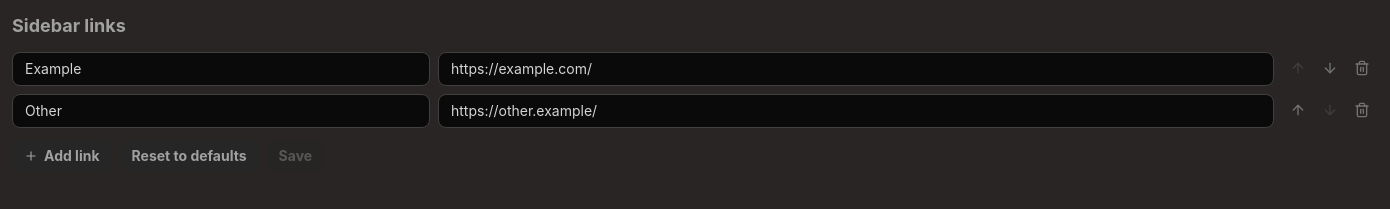
Test: LinksEditor › shows an inline error and does not save an unsafe URL
Type "javascript:alert(1)" into the 2nd field.
click(856, 69); type("javascript:alert(1)")  # box top-left (438, 52), bottom-right (1274, 86)
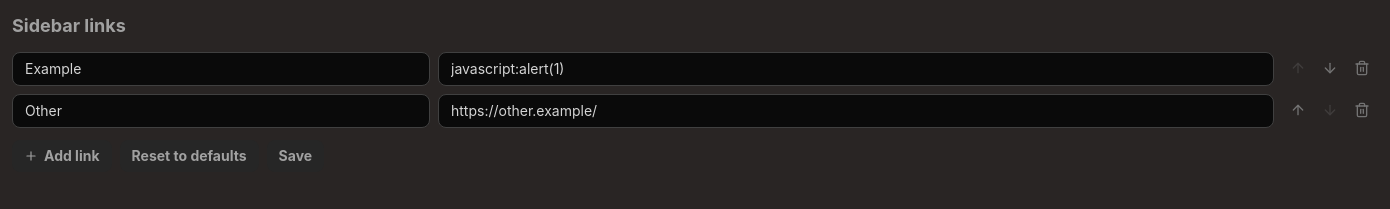
Expected: the text "valid web address" is not shown
Leave the 2nd field, box top-left (438, 52), bottom-right (1274, 86)
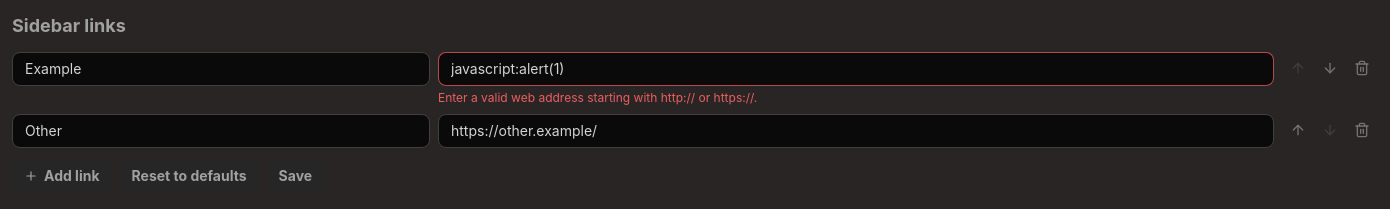
Now the text "Enter a valid web address starting with http:// or https://." is shown, box top-left (438, 90), bottom-right (757, 105)
Click the button "Save".
click(295, 176)  # box top-left (267, 160), bottom-right (324, 192)
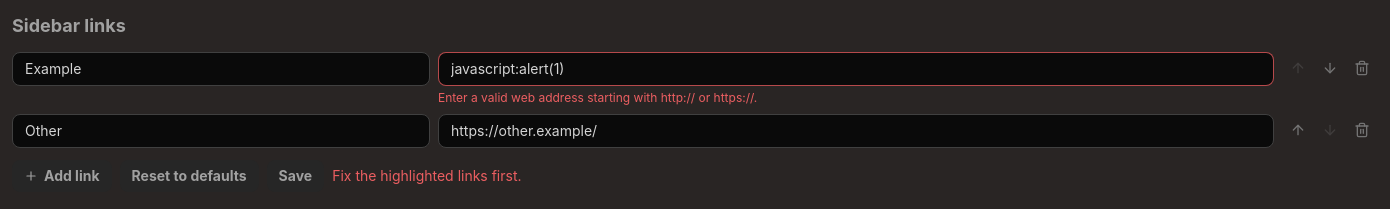
Now the text "Fix the highlighted links first." is shown, box top-left (332, 166), bottom-right (522, 186)
